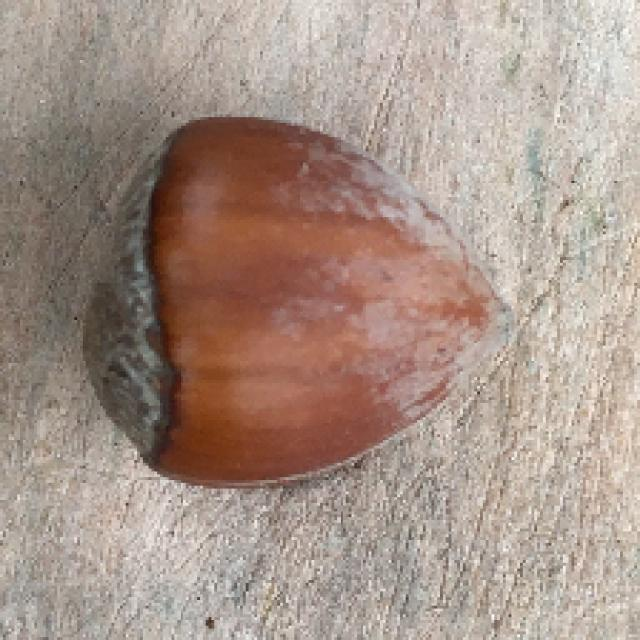qualityHazelnut: (86, 112, 505, 496)
